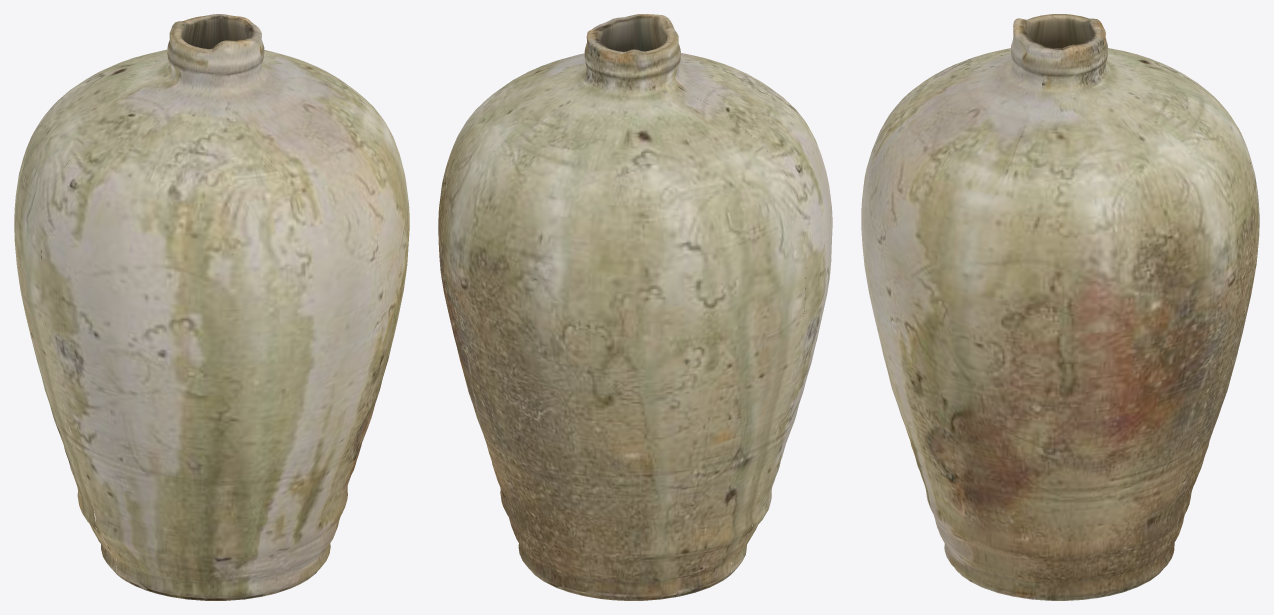
Rendered from japan-peony-reconstruction.glb.
3 renders of one model, left to right at view 1: azimuth 30°, elevation 25°; view 2: azimuth 150°, elevation 25°; view 3: azimuth 270°, elevation 25°, orthographic.
Visible parts, largest first — view 1: Japanese peony vase · photo-derived approximation; view 2: Japanese peony vase · photo-derived approximation; view 3: Japanese peony vase · photo-derived approximation.
Part boxes in pixels (x1,y1,x2,y2): Japanese peony vase · photo-derived approximation: [14, 14, 409, 600]; Japanese peony vase · photo-derived approximation: [438, 14, 832, 600]; Japanese peony vase · photo-derived approximation: [861, 14, 1259, 600].
Bounding box in the file's own units: 0.6835 × 1.01 × 0.6867.
1 material, 1 textured.
